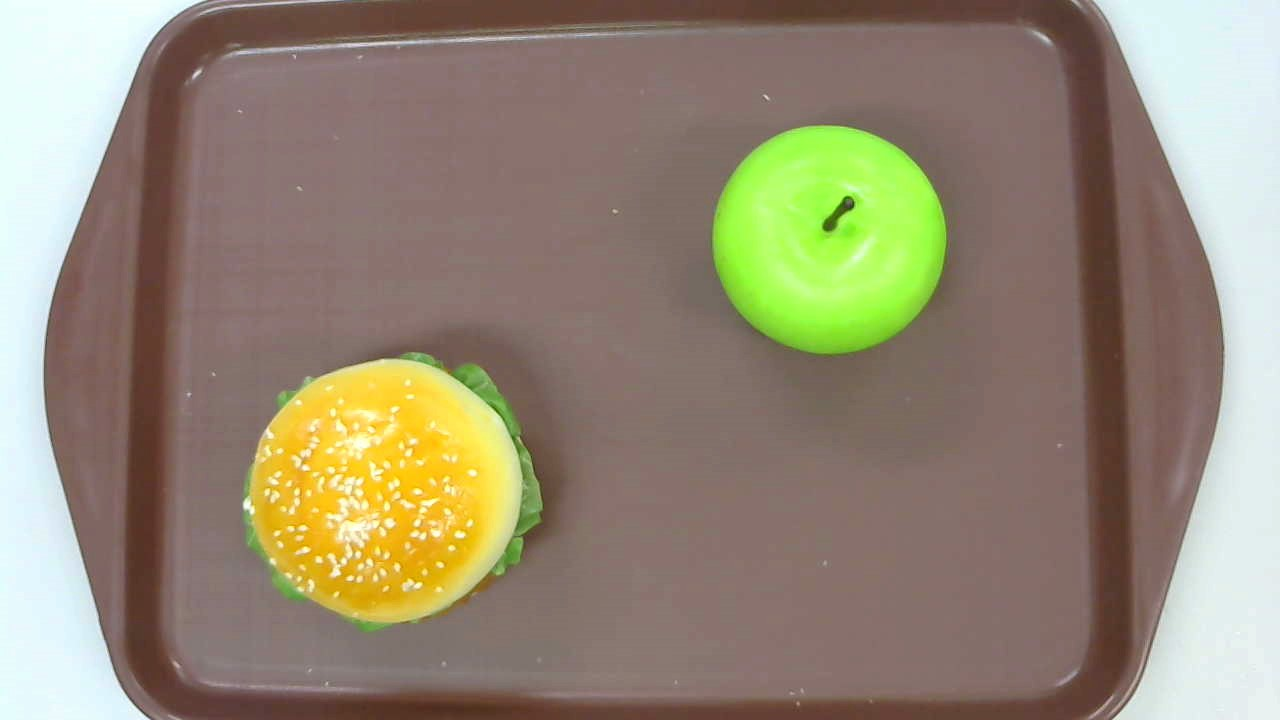green apple: (710, 125, 946, 357)
hamburger: (238, 348, 541, 633)
